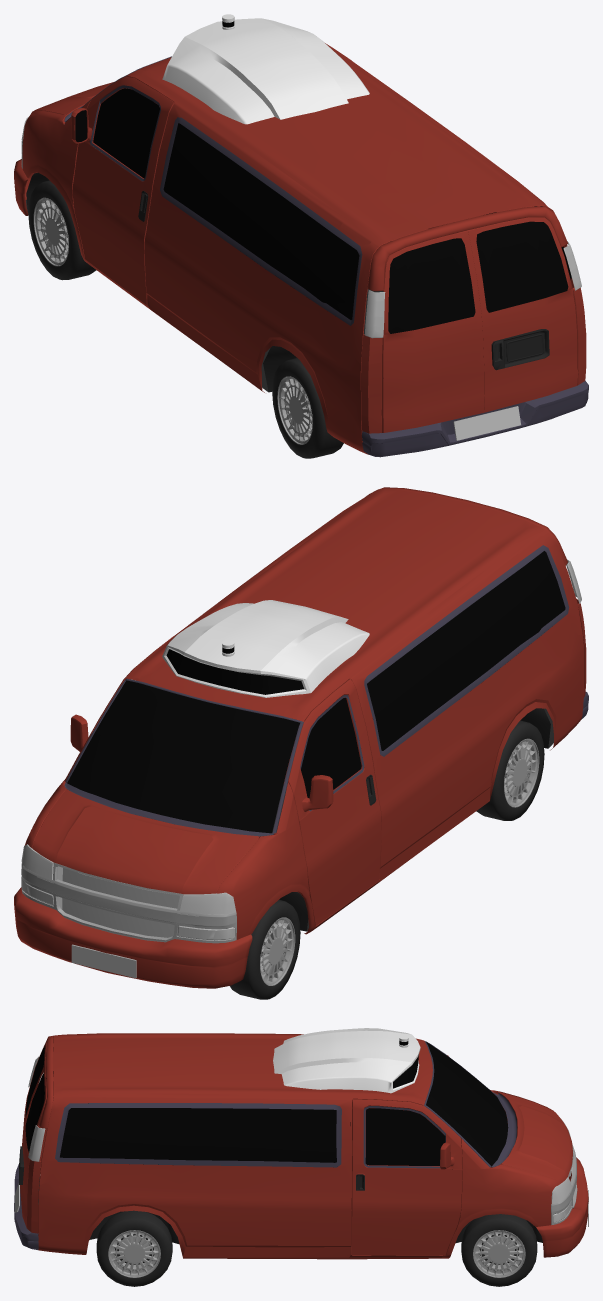
Rendered from maincar_minivan.glb.
3 views of the same model, one above another, from view 1: azimuth 30°, elevation 25°; view 2: azimuth 150°, elevation 25°; view 3: azimuth 270°, elevation 25° (orthographic). The views are drawn at different scales.
Visible parts, largest first — view 1: minivan_car.001, minivan_back_left, minivan_front_left, License Plate; view 2: minivan_car.001, minivan_front_left, minivan_back_left, License Plate, Light_01_Front_Left, Light_01_Front_Right; view 3: minivan_car.001, minivan_back_right, minivan_front_right.
Part boxes in pixels (x1,y1,x2,y2): minivan_car.001: (14,14,588,457); minivan_back_left: (272,358,343,458); minivan_front_left: (28,180,96,280); License Plate: (453,406,520,440); minivan_car.001: (14,487,588,988); minivan_front_left: (230,900,300,999); minivan_back_left: (476,720,544,820); License Plate: (71,944,136,978); Light_01_Front_Left: (180,892,236,914); Light_01_Front_Right: (21,844,53,879); minivan_car.001: (14,1028,588,1259); minivan_back_right: (96,1210,172,1286); minivan_front_right: (461,1214,537,1286).
Size of the model in its own units: 2.36 by 2.43 by 6.03.
